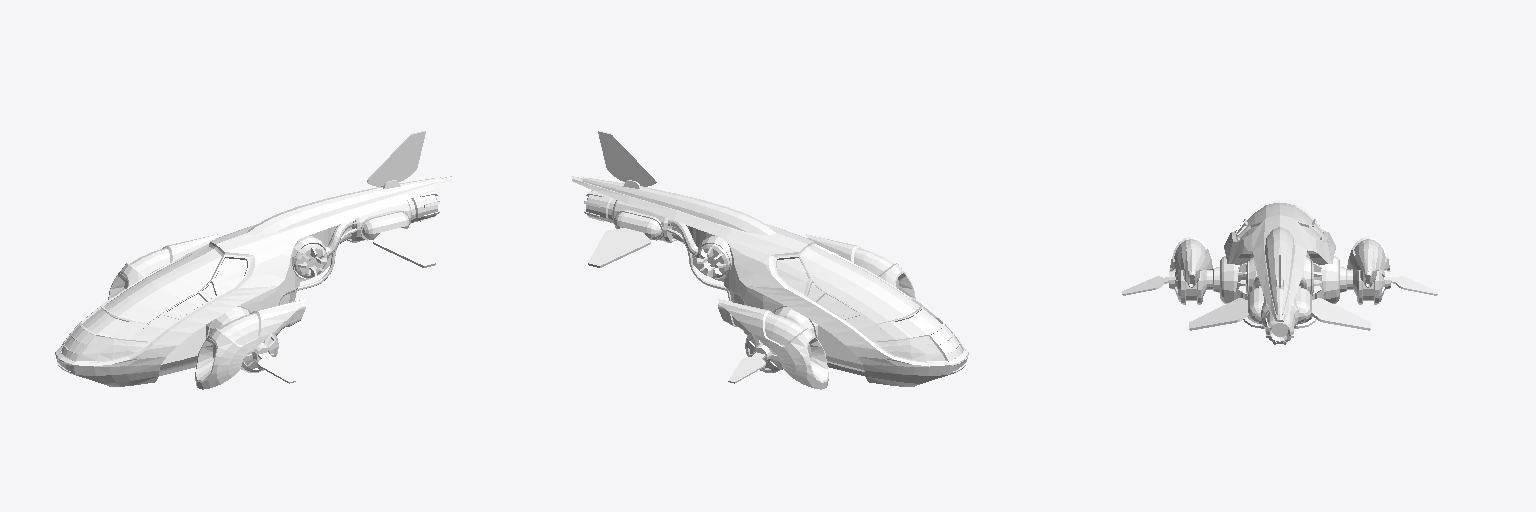
File: spaceship.obj
3 renders of one model, left to right at view 1: azimuth 30°, elevation 25°; view 2: azimuth 150°, elevation 25°; view 3: azimuth 270°, elevation 25°, orthographic.
Parts seen in each view (by area): view 1: Ship_Type_3_Sphere.005; view 2: Ship_Type_3_Sphere.005; view 3: Ship_Type_3_Sphere.005.
Part boxes in pixels (x1,y1,x2,y2): Ship_Type_3_Sphere.005: (55,131,451,389); Ship_Type_3_Sphere.005: (572,131,968,389); Ship_Type_3_Sphere.005: (1122,201,1437,344).
Bounding box in the file's own units: 8.61 × 3.52 × 6.